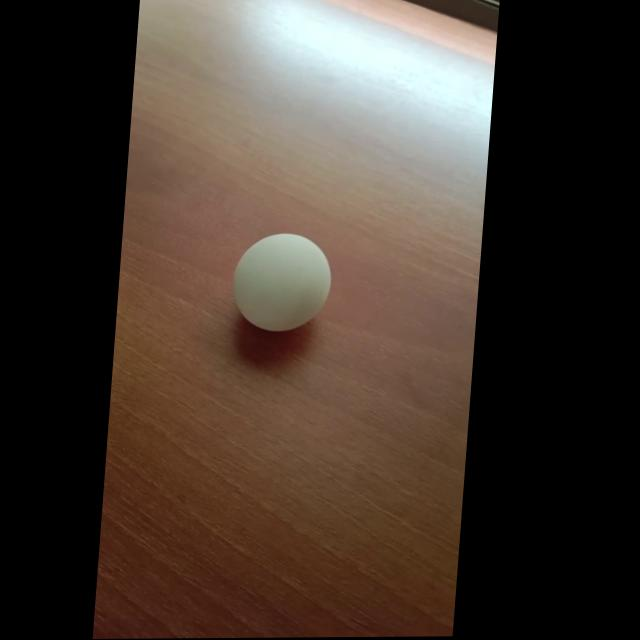white ball: (229, 231, 335, 332)
